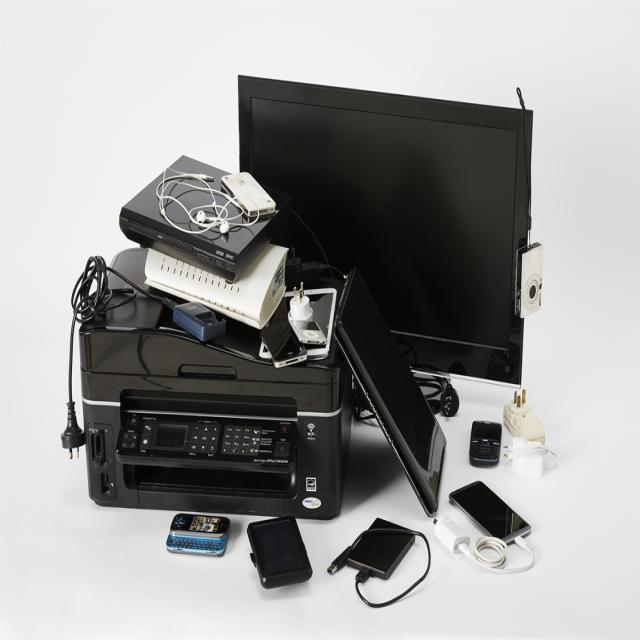Hazard: (72, 60, 546, 597)
